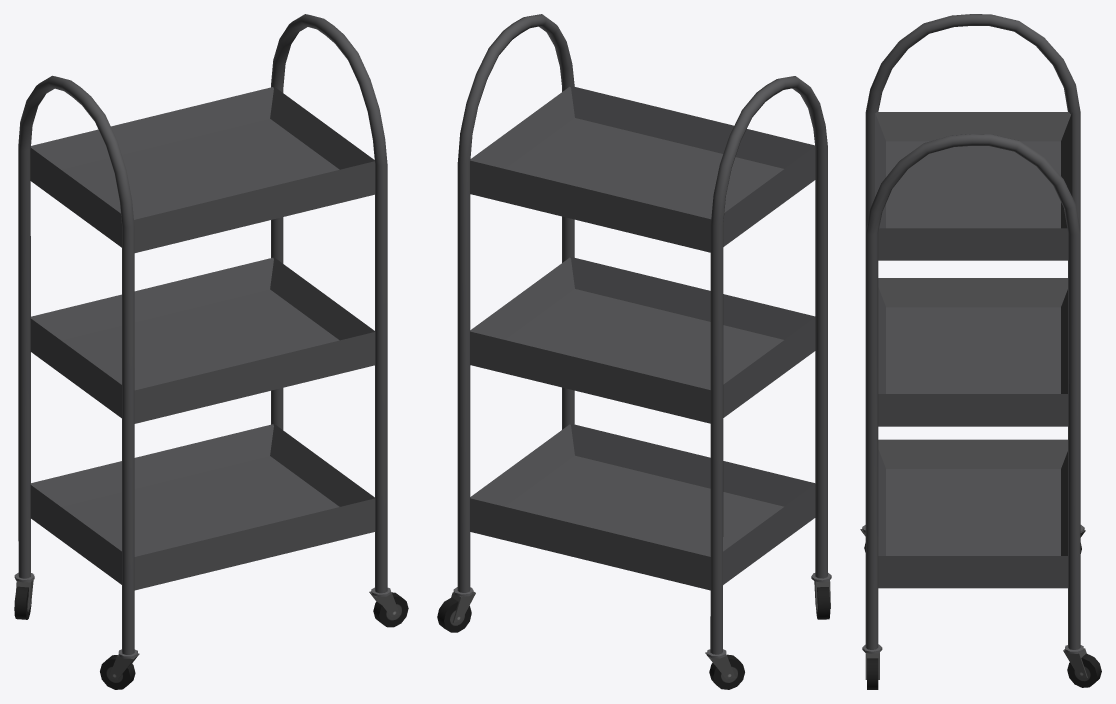
File: trolley2.FBX
The picture shows the model from 3 angles, left to right: view 1: azimuth 30°, elevation 25°; view 2: azimuth 150°, elevation 25°; view 3: azimuth 270°, elevation 25°; orthographic projection. The views are drawn at different scales.
Visible parts, largest first — view 1: trolley2; view 2: trolley2; view 3: trolley2.
Part boxes in pixels (x1,y1,x2,y2): trolley2: [14, 14, 408, 689]; trolley2: [437, 14, 831, 689]; trolley2: [860, 14, 1101, 689].
Bounding box in the file's own units: 29.57 × 21.5 × 53.9.
